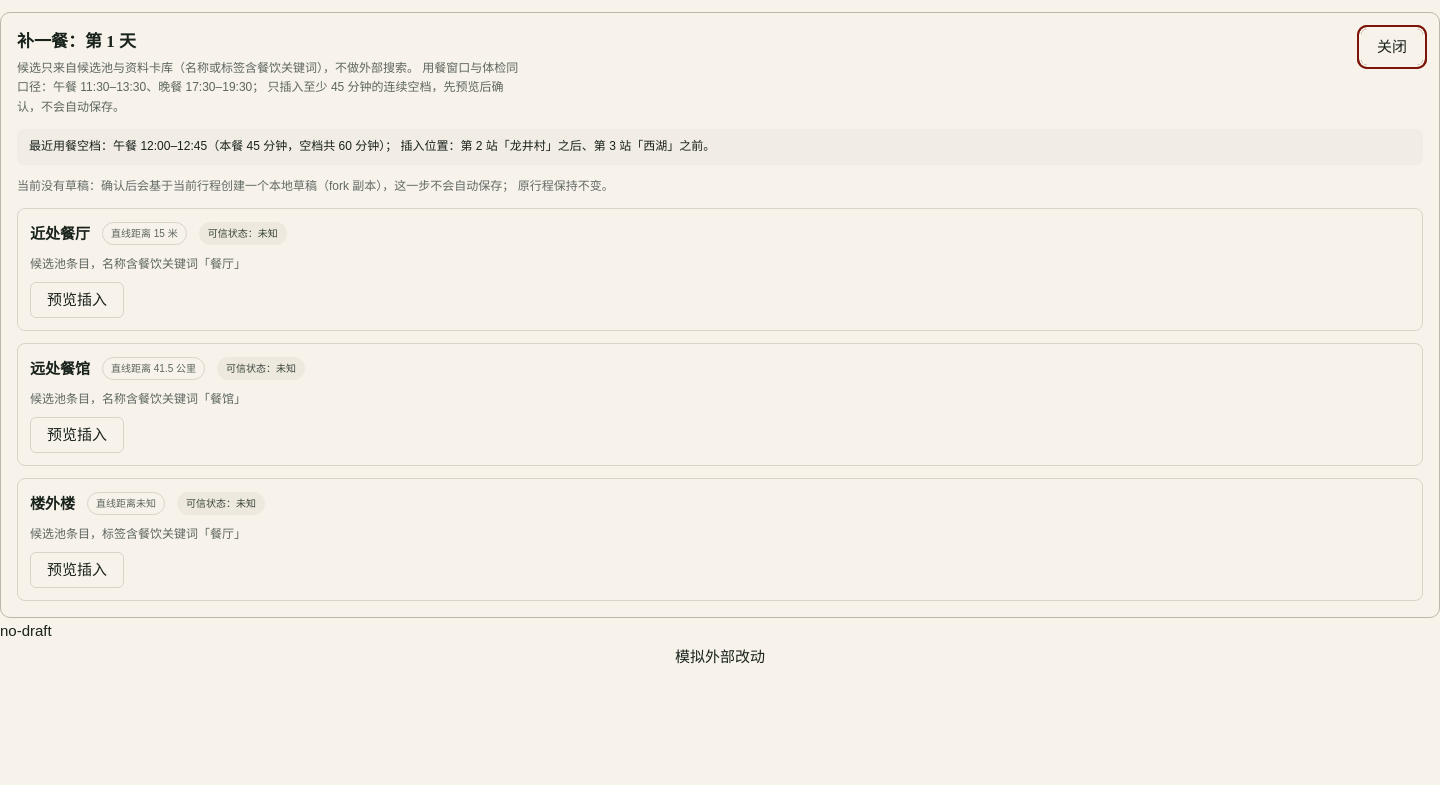
Test: MealSuggestPanel › 创建草稿失败 → 明示错误且不写任何草稿
The image size is (1440, 785).
Step 1. Click the button "预览插入" below "近处餐厅" → (77, 300), box [30,282,124,318]
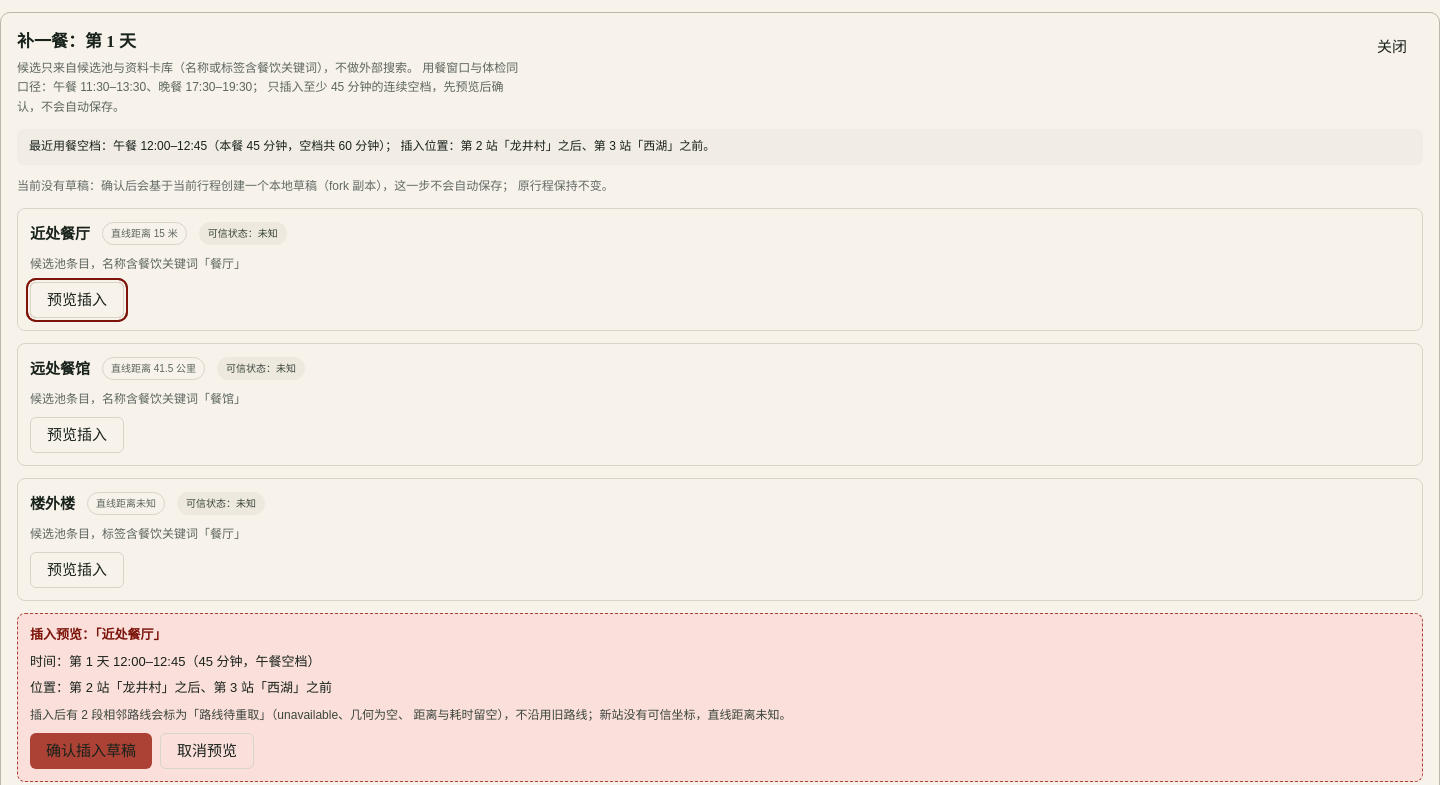
Step 2. Click the button with test id "meal-confirm" → (91, 751), box [30,733,152,769]
(page scrolled)
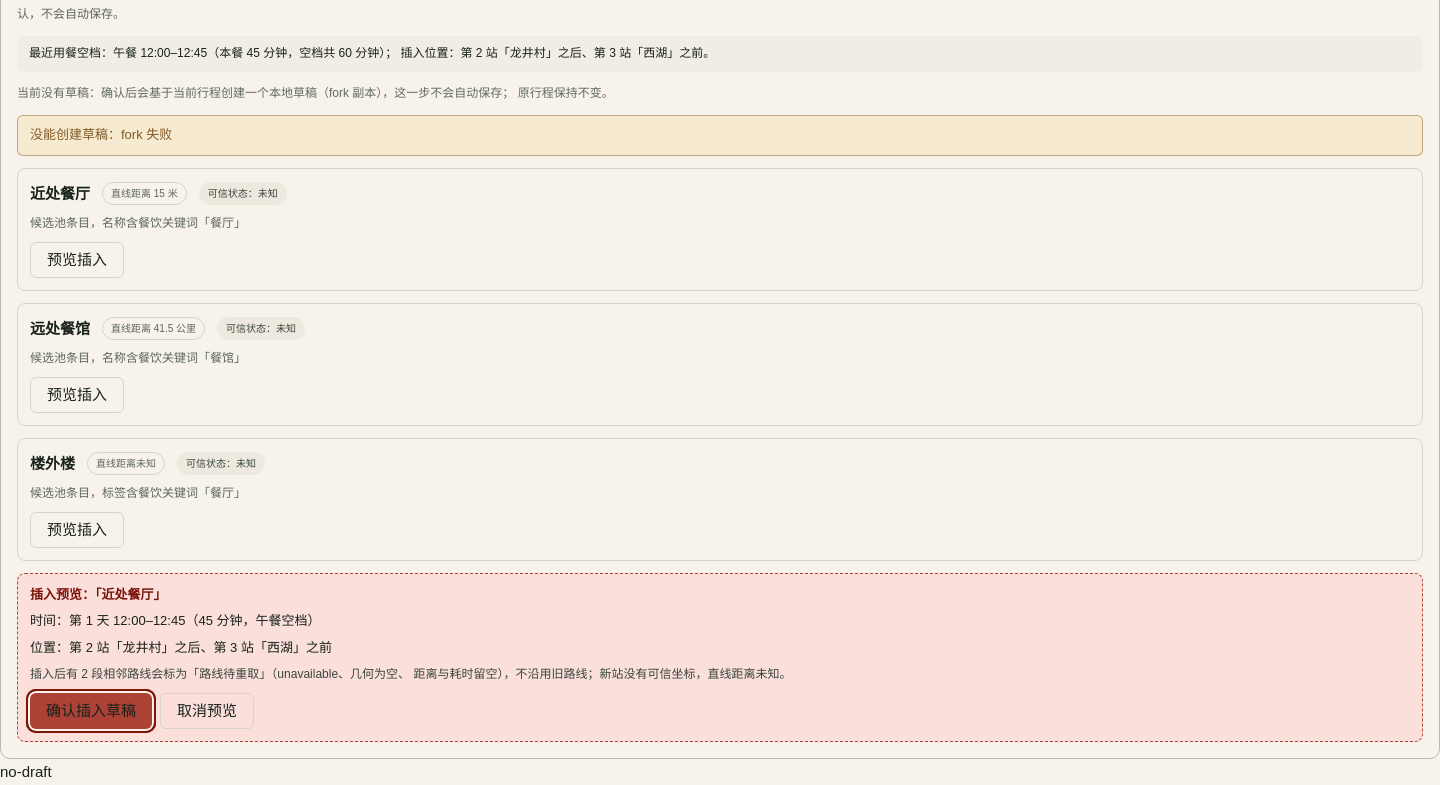
Check: the text with test id "harness-meal-summary" reads "no-draft", box [0,763,52,780]
Check: the message reads "没能创建草稿：fork 失败", box [30,127,172,142]
